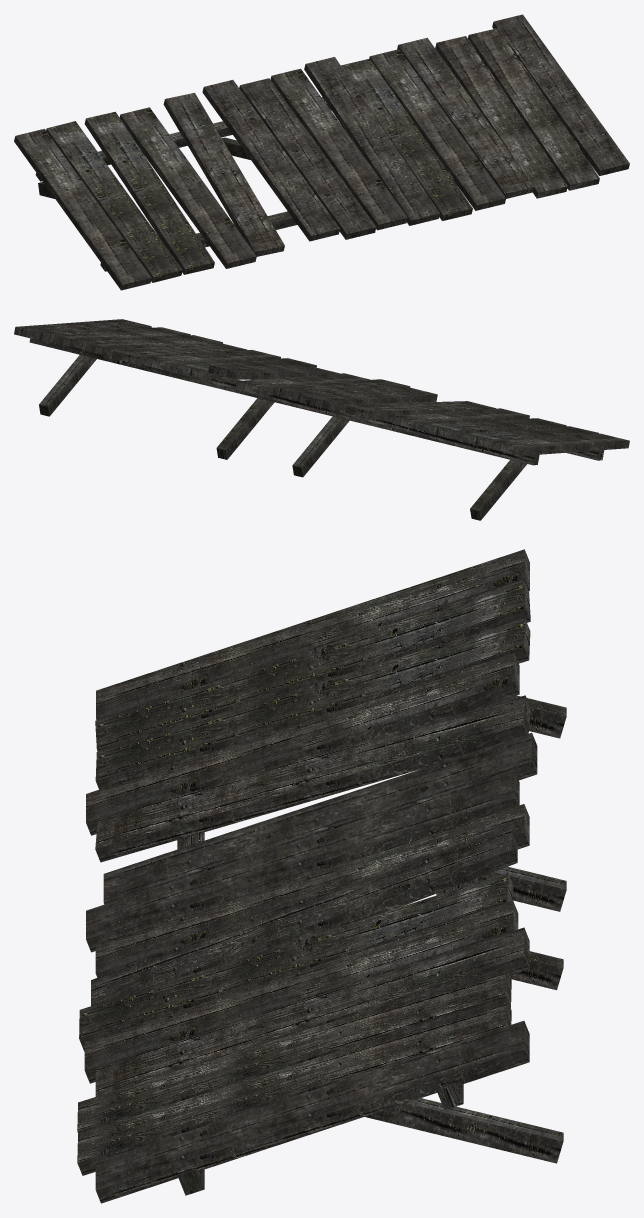
File: Awning_1.fbx
The picture shows the model from 3 angles, top to bottom: view 1: azimuth 30°, elevation 25°; view 2: azimuth 150°, elevation 25°; view 3: azimuth 270°, elevation 25°; orthographic projection. The views are drawn at different scales.
Visible parts, largest first — view 1: Awning_1; view 2: Awning_1; view 3: Awning_1.
Part boxes in pixels (x1=…): Awning_1: x1=14, y1=14, x2=629, y2=290; Awning_1: x1=14, y1=319, x2=629, y2=520; Awning_1: x1=77, y1=549, x2=566, y2=1203.
Size of the model in its own units: 321 by 52.28 by 134.
